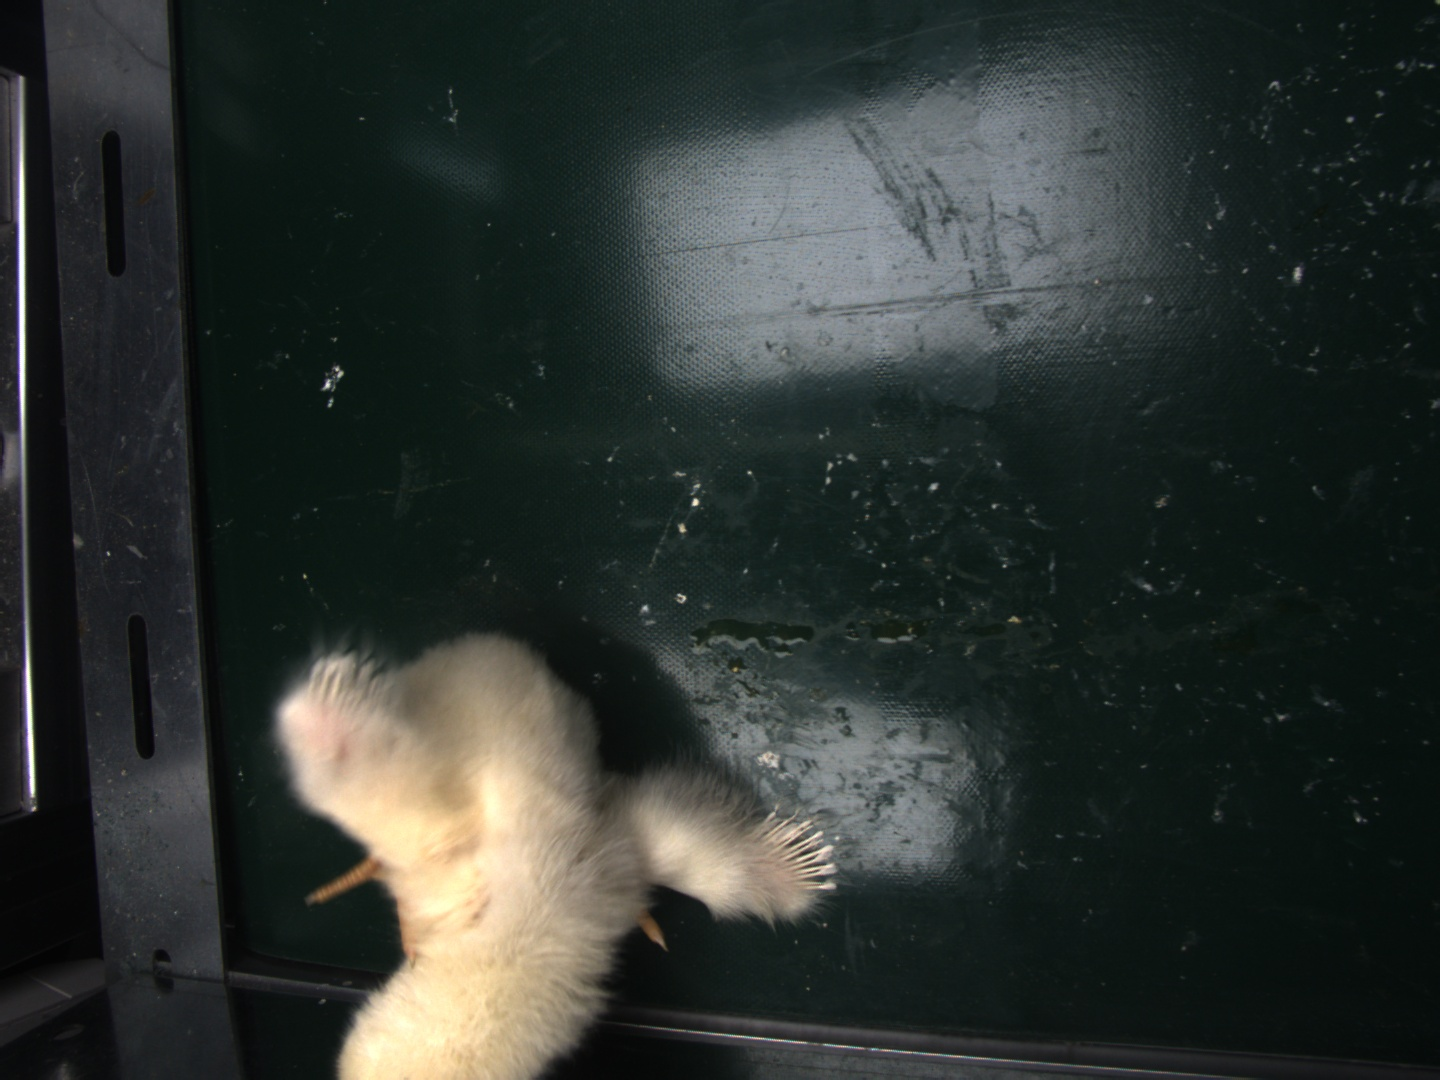male: (751, 805, 842, 897)
